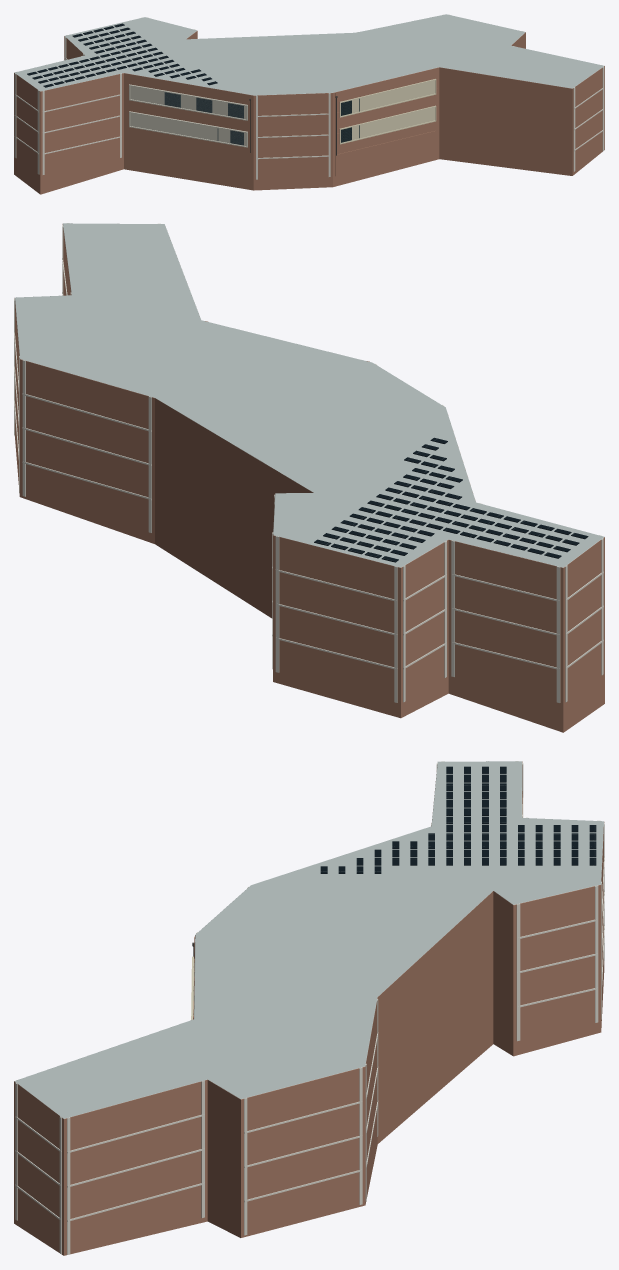
File: intact.glb
3 renders of one model, top to bottom at view 1: azimuth 30°, elevation 25°; view 2: azimuth 150°, elevation 25°; view 3: azimuth 270°, elevation 25°, orthographic. The views are drawn at different scales.
Visible parts, largest first — view 1: SM_468931898_Intact_00, SM_468931898_Intact_11, SM_468931898_Intact_01, SM_468931898_Intact_10, SM_468931898_Intact_02, SM_468931898_Intact_12, SM_468931898_Intact_03; view 2: SM_468931898_Intact_00; view 3: SM_468931898_Intact_00.
Boxes of the visible parts, box(x1,y1,x2,y2) form: SM_468931898_Intact_00: box(14, 14, 604, 194); SM_468931898_Intact_11: box(130, 86, 246, 145); SM_468931898_Intact_01: box(341, 80, 435, 142); SM_468931898_Intact_10: box(129, 84, 247, 147); SM_468931898_Intact_02: box(339, 79, 436, 144); SM_468931898_Intact_12: box(164, 92, 243, 145); SM_468931898_Intact_03: box(341, 100, 351, 142); SM_468931898_Intact_00: box(14, 223, 604, 732); SM_468931898_Intact_00: box(14, 761, 604, 1255).
Size of the model in its own units: 2.2 by 0.4835 by 1.53.
Materials: 11 (3 with a texture image).
